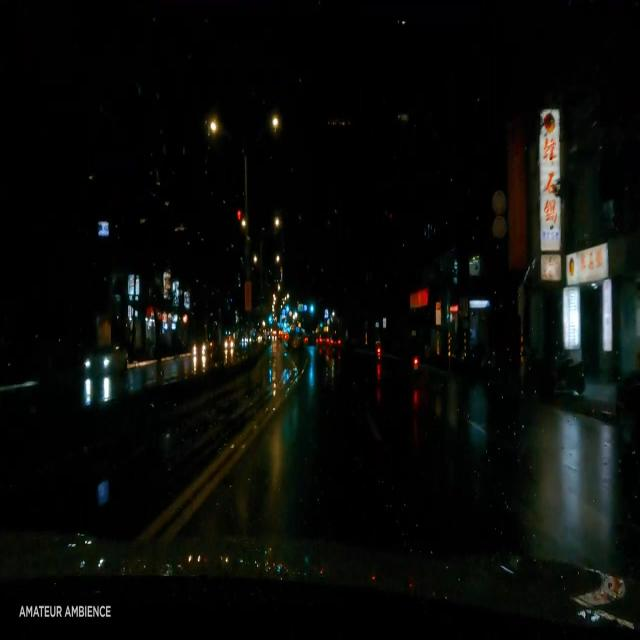Car: (83, 346, 129, 375)
